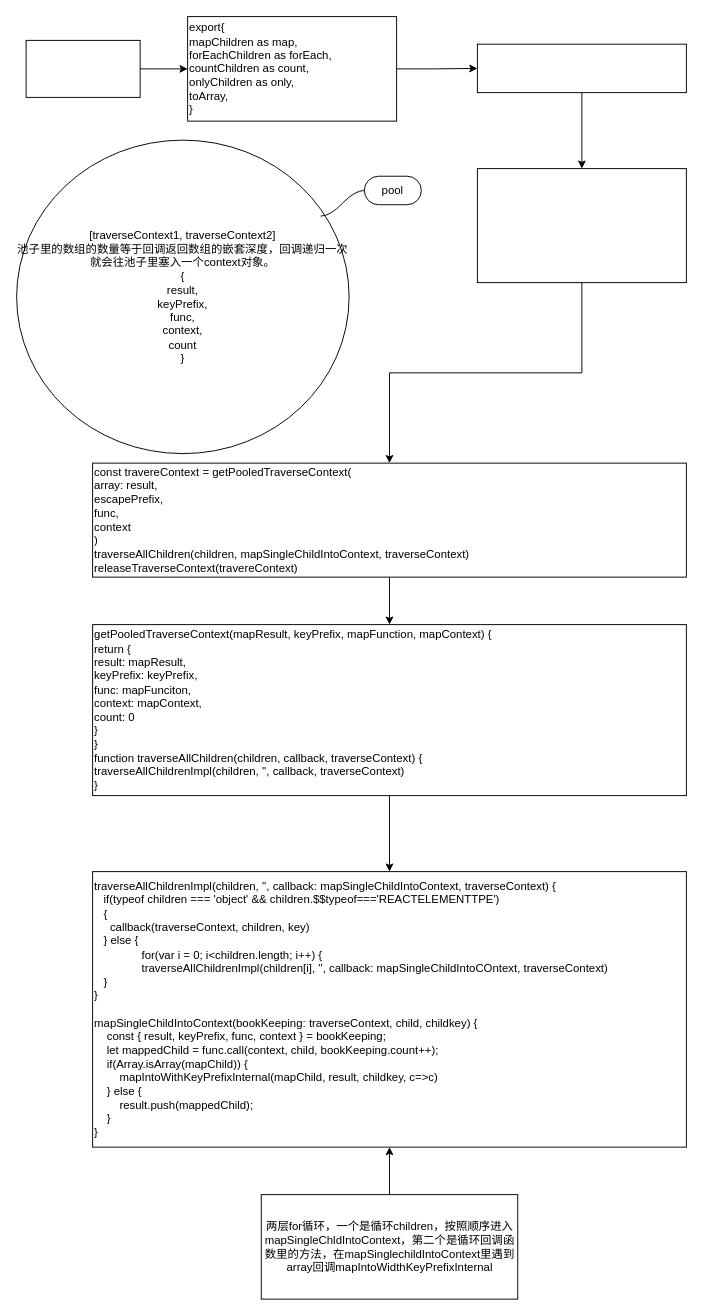
Image size: 703x1316. Some labels were removed from this diagram. The shapes that lost their labels are listed below. From the top down, each one's centre as x and y in pixels, then its label:
[82,68]: react-children.js
[581,68]: mapChildren(children, func, context)
[581,225]: mapIntoWithKeyPrefixInternal( children ， result = [], null, func, context )
